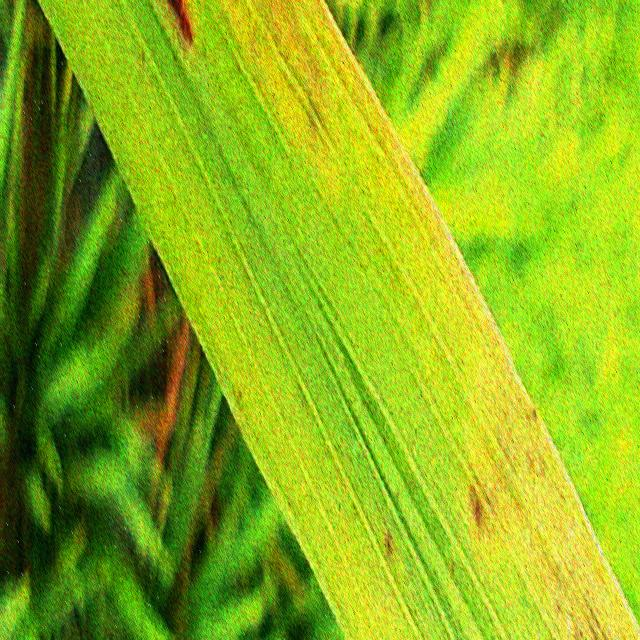LEAF BLAST: (165, 0, 192, 50)
